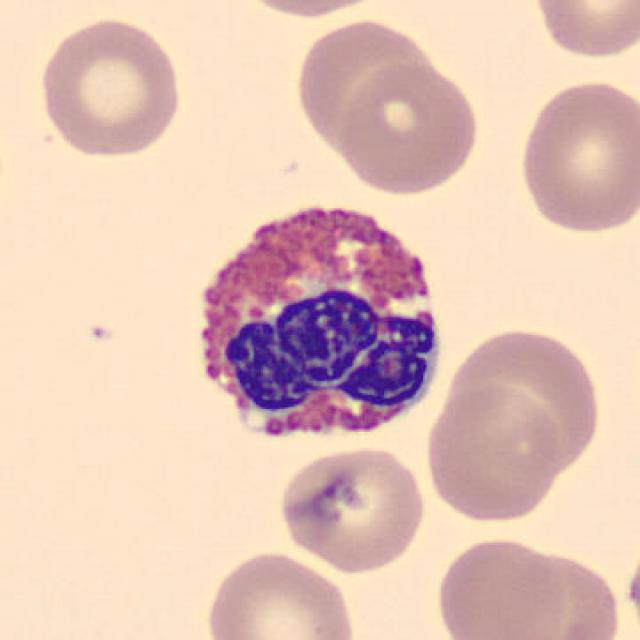Eosinophil: (172, 180, 458, 471)
Platelets: (622, 534, 640, 633)
RBC: (439, 322, 606, 480), (32, 12, 187, 160), (421, 382, 567, 526), (276, 442, 430, 576), (514, 74, 638, 238), (334, 60, 482, 197), (292, 15, 432, 152), (201, 546, 361, 640), (432, 532, 567, 640), (476, 543, 626, 640), (526, 0, 638, 63), (228, 0, 394, 21), (622, 526, 640, 632)
